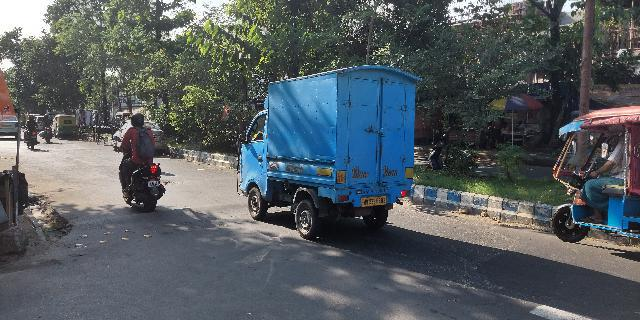Autorickshaw: (52, 111, 80, 142)
Minitruck: (231, 64, 415, 244)
Motorbike: (112, 107, 168, 215), (19, 114, 41, 154), (40, 110, 58, 144)
Rickshaw: (544, 103, 640, 247)
